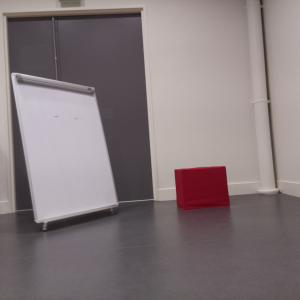big: (11, 71, 118, 226)
medium: (174, 166, 230, 211)
